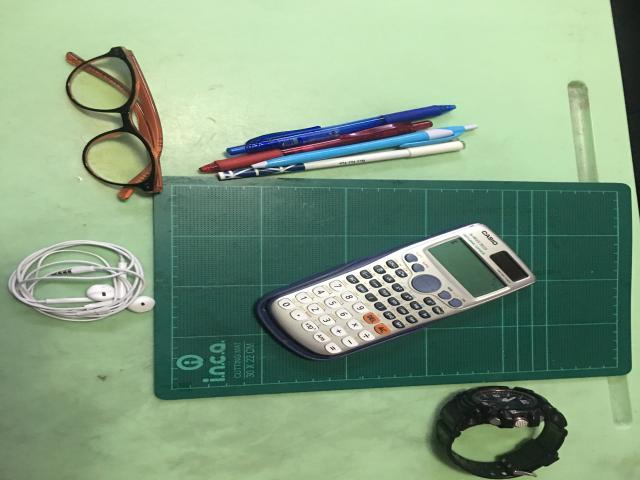Glasses: (67, 47, 162, 199)
Pen: (199, 105, 479, 180)
Wallet: (437, 386, 567, 479)
wire: (8, 240, 155, 322)
